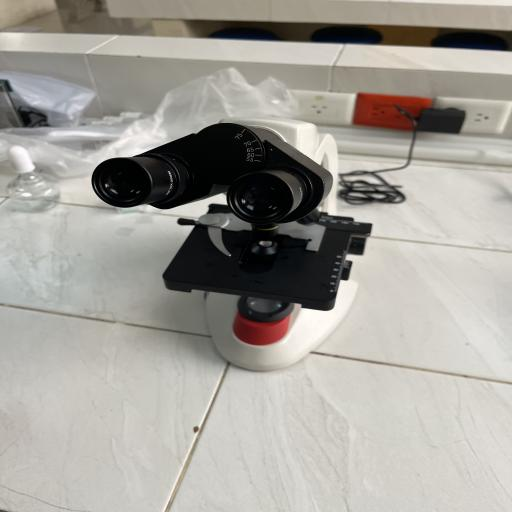Microscopio_Binocular: (84, 101, 399, 389)
